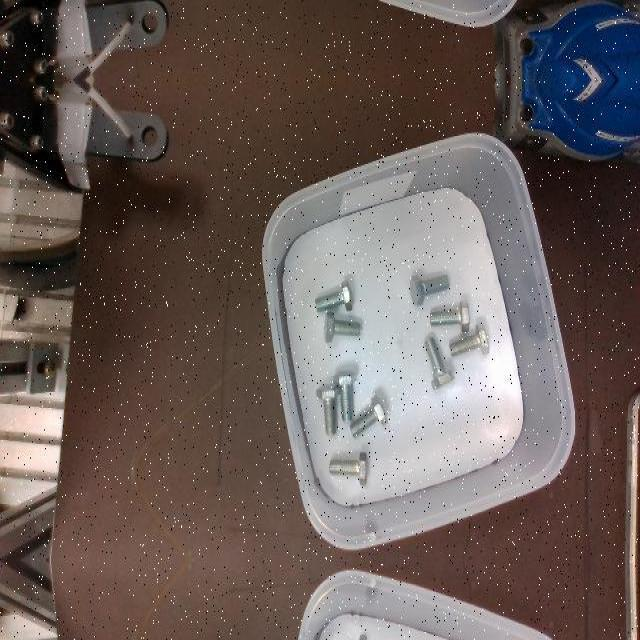screw: (349, 394, 388, 438), (424, 337, 455, 389), (449, 323, 490, 357), (329, 451, 368, 485), (429, 300, 469, 332), (315, 279, 352, 313), (409, 274, 450, 304), (315, 384, 339, 434), (332, 371, 356, 421), (324, 311, 361, 343)
